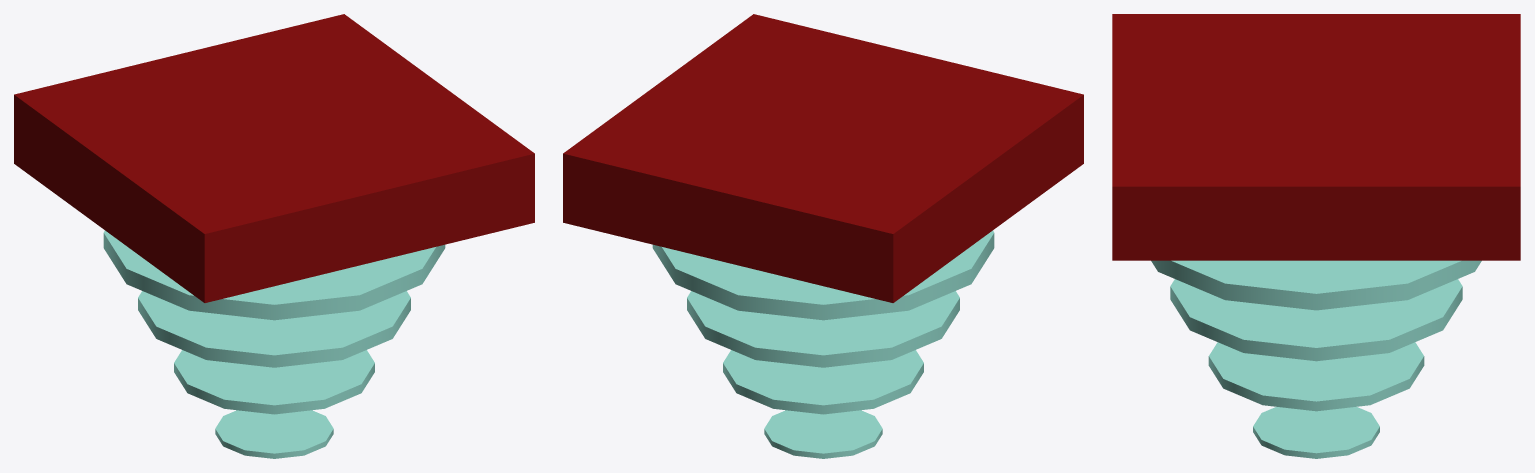
Rendered from Platform.obj.
3 views of the same model, side by side, from view 1: azimuth 30°, elevation 25°; view 2: azimuth 150°, elevation 25°; view 3: azimuth 270°, elevation 25° (orthographic). The views are drawn at different scales.
Parts seen in each view (by area): view 1: Box004, Cylinder002, Cylinder001, Cylinder003, Cylinder004; view 2: Box004, Cylinder002, Cylinder001, Cylinder003, Cylinder004; view 3: Box004, Cylinder002, Cylinder001, Cylinder003, Cylinder004.
Part boxes in pixels (x1,y1,x2,y2): Box004: (14,14,534,302); Cylinder002: (138,291,410,367); Cylinder001: (103,230,445,320); Cylinder003: (174,350,374,414); Cylinder004: (215,410,333,458); Box004: (563,14,1083,302); Cylinder002: (687,291,959,367); Cylinder001: (652,230,994,320); Cylinder003: (723,350,923,414); Cylinder004: (764,410,882,458); Box004: (1112,14,1520,260); Cylinder002: (1170,279,1462,361); Cylinder001: (1151,260,1481,310); Cylinder003: (1208,342,1424,411); Cylinder004: (1253,407,1379,458).
Bounding box in the file's own units: 1 × 0.8965 × 1.
